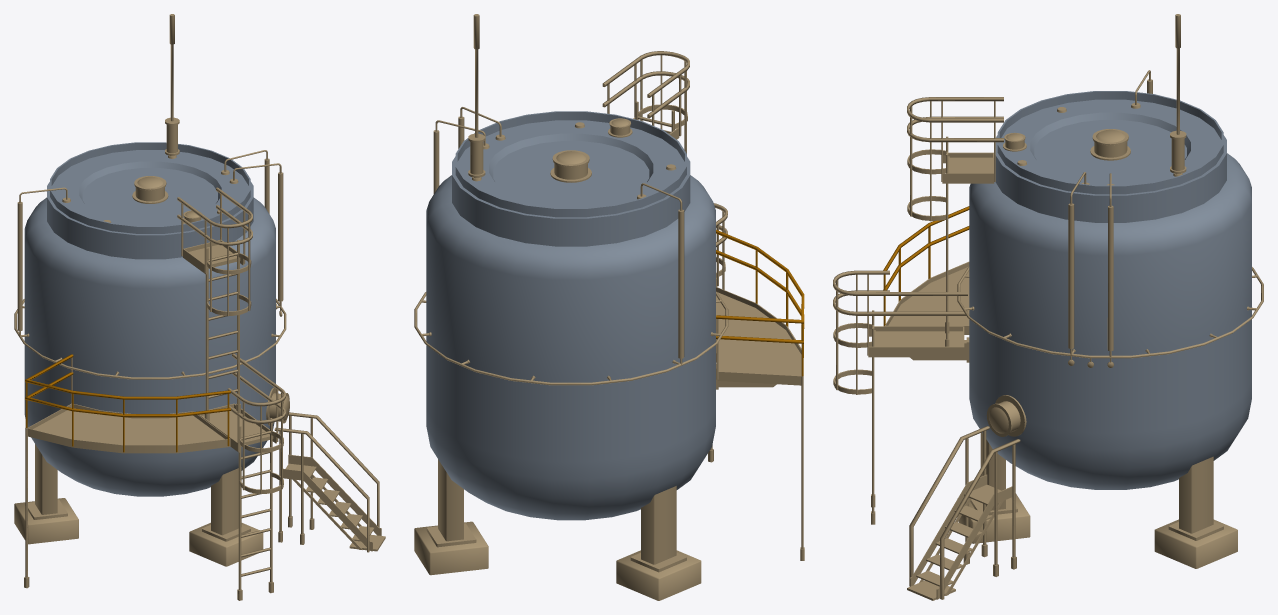
The model's file is Gas Tank.FBX.
The picture shows the model from 3 angles, left to right: view 1: azimuth 30°, elevation 25°; view 2: azimuth 150°, elevation 25°; view 3: azimuth 270°, elevation 25°; orthographic projection. The views are drawn at different scales.
Parts seen in each view (by area): view 1: Gas Tank, Object017, Box011, Box008, Cylinder001, Box010, Box009, Object042, Shape006, Shape002, Cylinder014, Cylinder012 (+1 smaller); view 2: Gas Tank, Box009, Cylinder001, Box003, Box008, Shape006, Shape002, Object042, Cylinder012, Box011, Object038, Cylinder007 (+4 smaller); view 3: Gas Tank, Object017, Box011, Box008, Box003, Box010, Cylinder001, Shape002, Cylinder014, Cylinder010, Shape006, Cylinder005 (+4 smaller).
Boxes of the visible parts, box(x1,y1,x2,y2) form: Gas Tank: box(24, 142, 275, 496); Object017: box(274, 412, 385, 552); Box011: box(198, 353, 285, 600); Box008: box(177, 187, 252, 421); Cylinder001: box(33, 408, 224, 444); Box010: box(189, 467, 263, 566); Box009: box(14, 444, 78, 544); Object042: box(27, 403, 230, 453); Shape006: box(25, 354, 230, 417); Shape002: box(14, 298, 286, 379); Cylinder014: box(229, 163, 283, 306); Cylinder012: box(17, 187, 70, 335); Gas Tank: box(426, 111, 715, 520); Box009: box(616, 486, 701, 600); Cylinder001: box(716, 292, 801, 375); Box003: box(414, 459, 488, 575); Box008: box(602, 51, 689, 153); Shape006: box(716, 229, 804, 343); Shape002: box(414, 292, 728, 385); Object042: box(716, 287, 801, 385); Cylinder012: box(637, 183, 684, 364); Box011: box(708, 203, 727, 462); Object038: box(468, 133, 485, 178); Cylinder007: box(550, 161, 591, 182); Gas Tank: box(969, 91, 1251, 489); Object017: box(907, 426, 1020, 600); Box011: box(833, 270, 967, 524); Box008: box(907, 97, 1003, 346); Box003: box(1154, 456, 1237, 568); Box010: box(957, 432, 1030, 543); Cylinder001: box(888, 267, 969, 325); Shape002: box(957, 267, 1263, 358); Cylinder014: box(1068, 172, 1089, 354); Cylinder010: box(1107, 173, 1114, 356); Shape006: box(883, 206, 969, 290); Cylinder005: box(995, 395, 1026, 436).
Size of the model in its own units: 778 by 1089 by 803.
